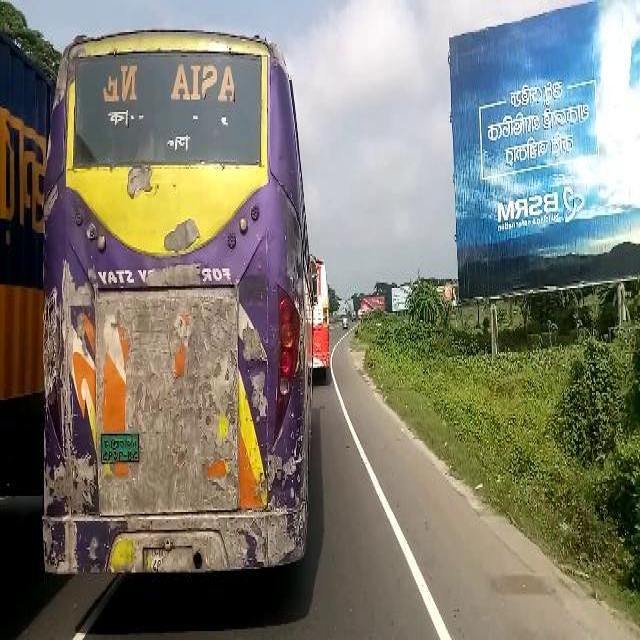Bus: (41, 31, 311, 578)
